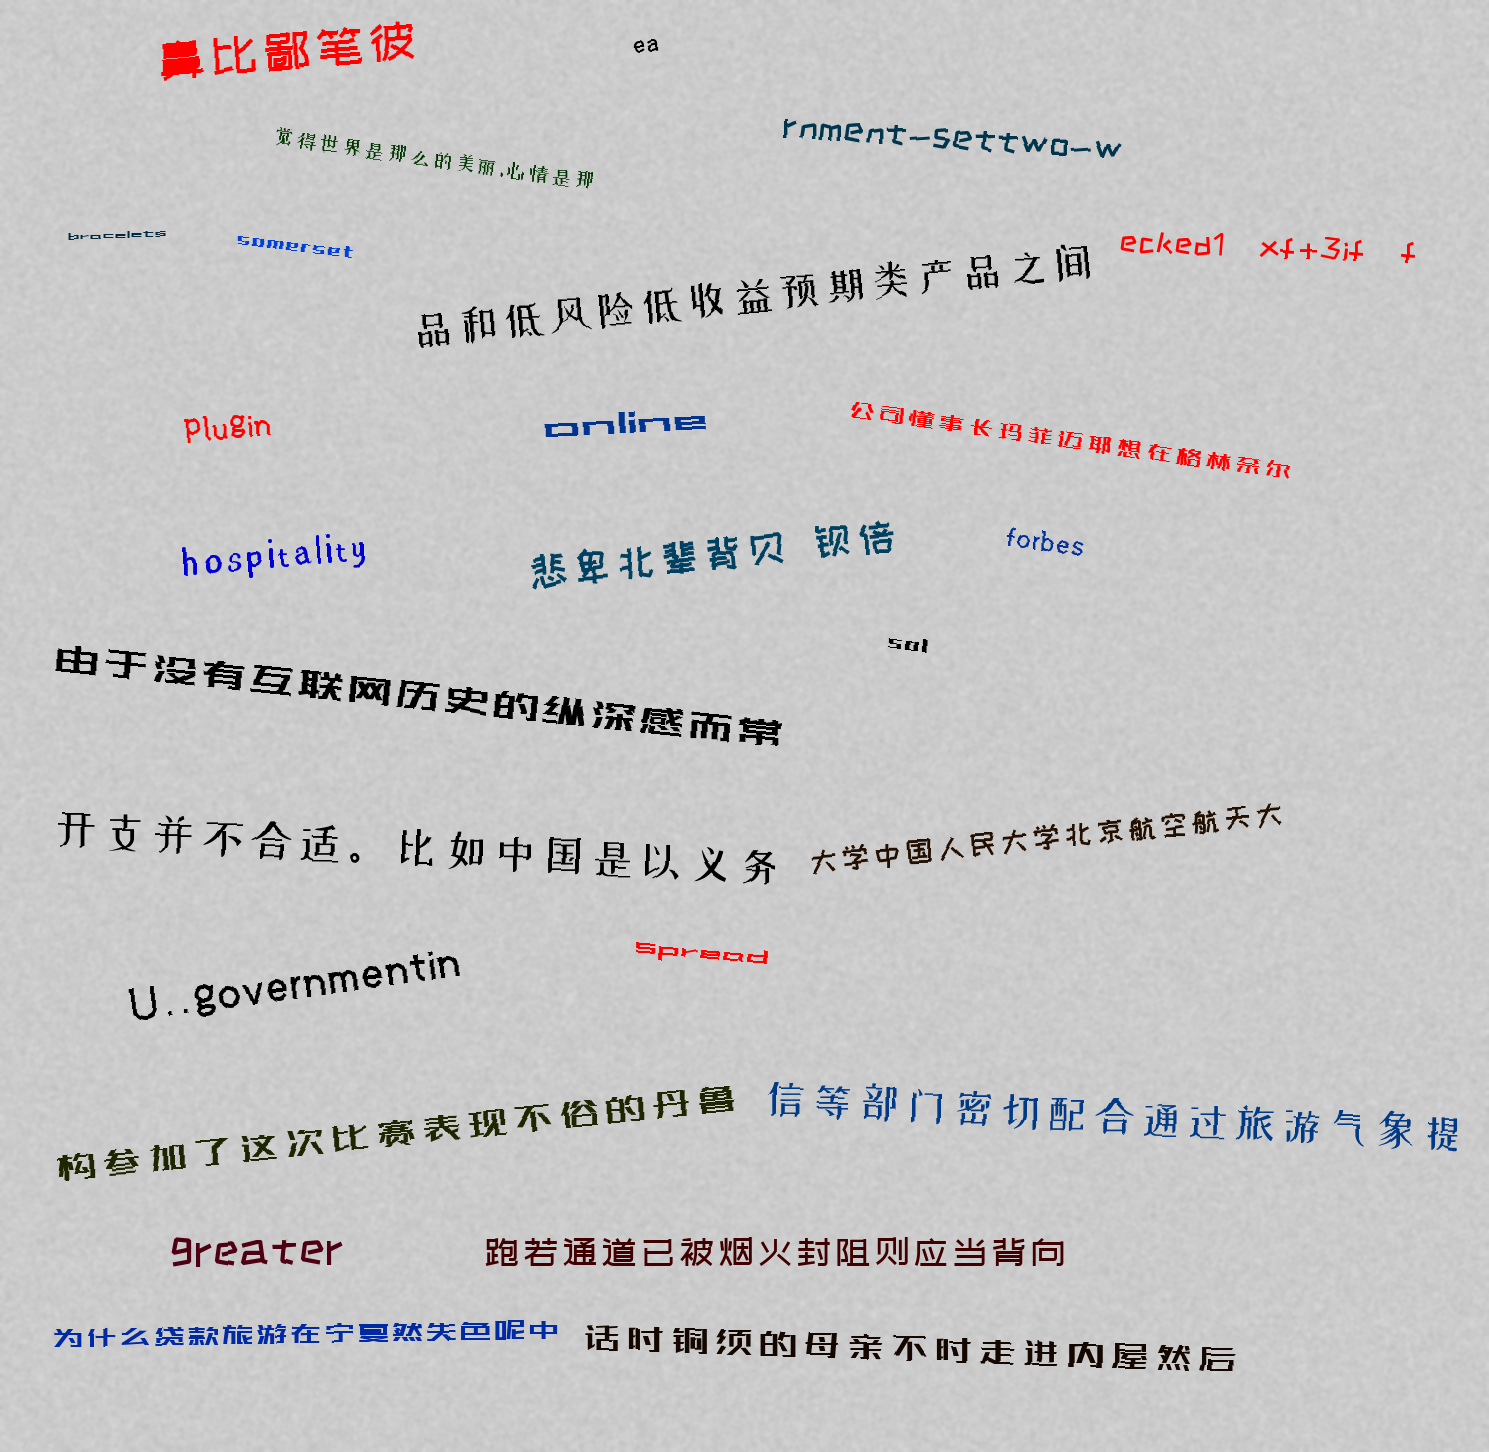h_text: (51, 617, 786, 769), (408, 223, 1098, 364), (51, 1058, 741, 1199), (51, 788, 784, 902), (762, 1058, 1466, 1167), (581, 1300, 1239, 1390), (51, 921, 534, 1038), (846, 386, 1295, 491), (806, 788, 1287, 886), (51, 512, 495, 596), (484, 1221, 1066, 1280), (80, 11, 493, 88), (516, 512, 908, 593), (51, 1300, 560, 1362), (271, 118, 598, 197), (51, 386, 403, 457), (424, 386, 826, 447), (51, 1221, 463, 1270), (782, 105, 1123, 164), (556, 921, 847, 977), (929, 512, 1162, 566), (1119, 223, 1419, 265), (807, 617, 1009, 665), (540, 21, 751, 62), (203, 223, 387, 263), (51, 223, 183, 242)
